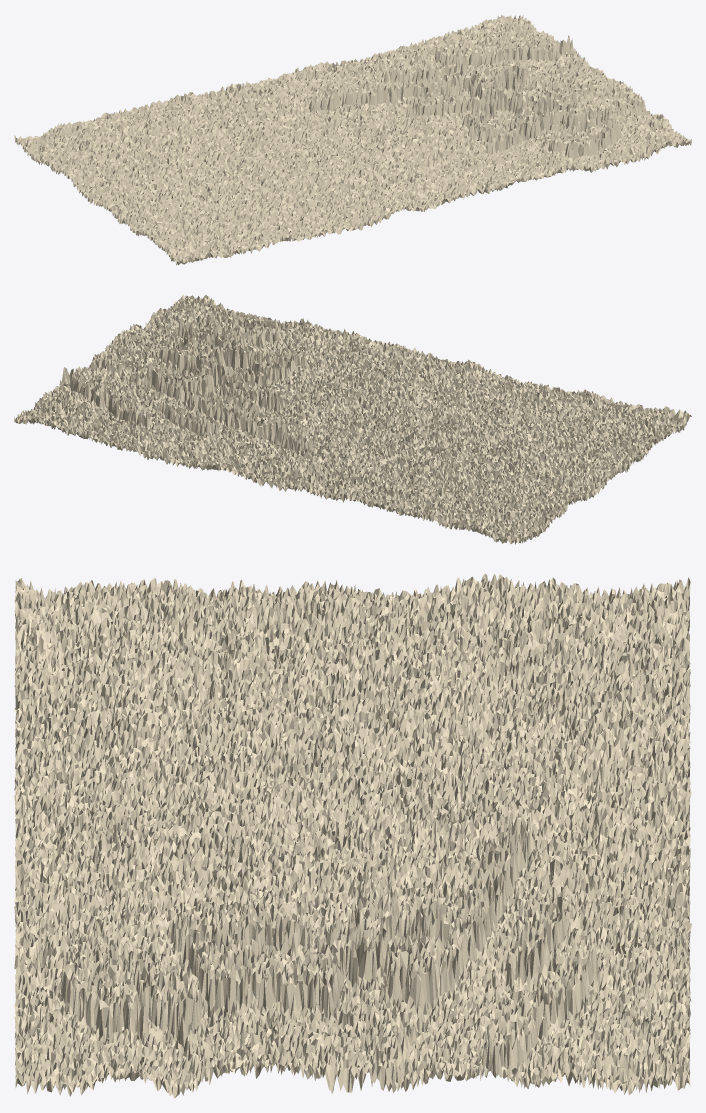
3 views of the same model, one above another, from view 1: azimuth 30°, elevation 25°; view 2: azimuth 150°, elevation 25°; view 3: azimuth 270°, elevation 25° (orthographic). The views are drawn at different scales.
Visible parts, largest first — view 1: Sand_Beach.002; view 2: Sand_Beach.002; view 3: Sand_Beach.002.
Part boxes in pixels (left/top/right/bottom): Sand_Beach.002: left=14, top=15, right=691, bottom=265; Sand_Beach.002: left=14, top=294, right=691, bottom=544; Sand_Beach.002: left=14, top=573, right=691, bottom=1098.
Size of the model in its own units: 753 by 47.51 by 436.
